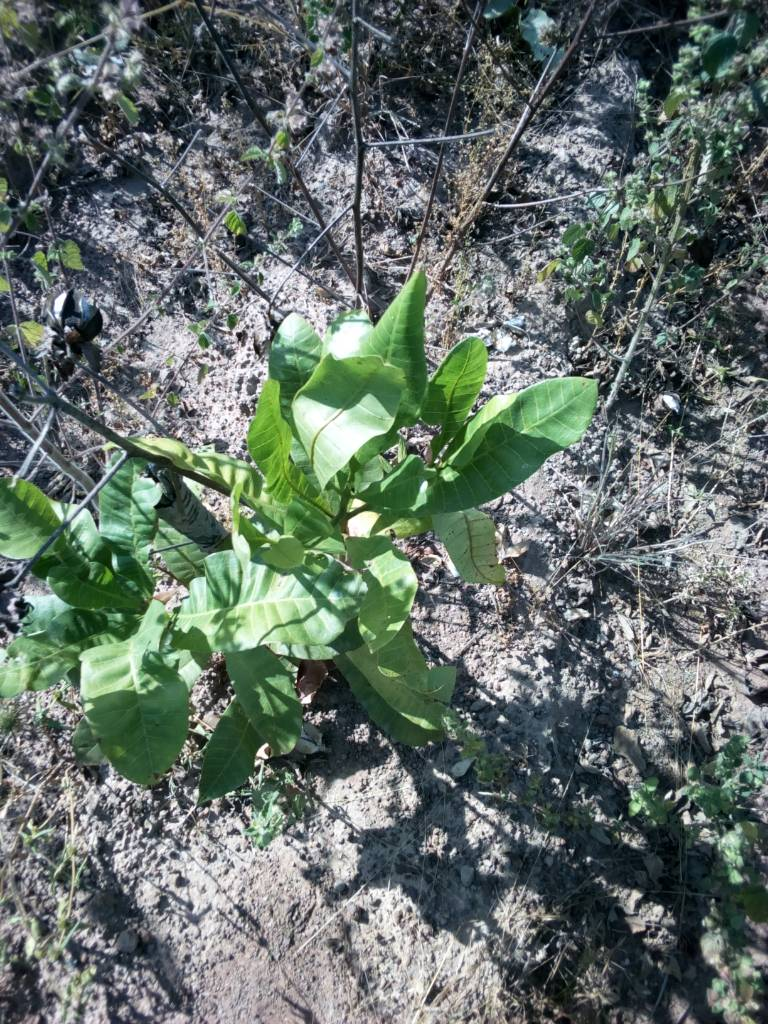Helopeltis anacardii: (193, 546, 368, 649), (82, 639, 193, 783), (308, 350, 399, 478)
